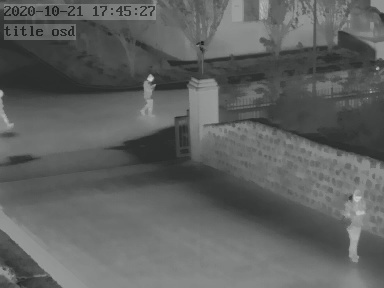person: (343, 188, 366, 263), (139, 72, 157, 121)
